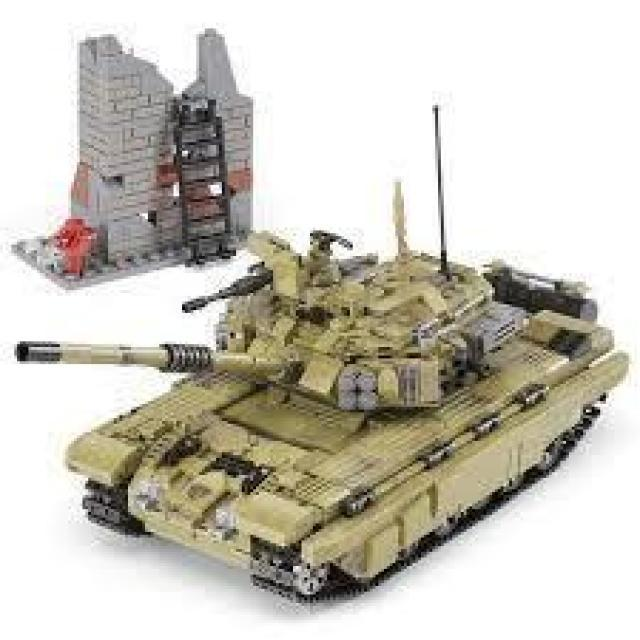MIL_MBT: (61, 242, 624, 600)
